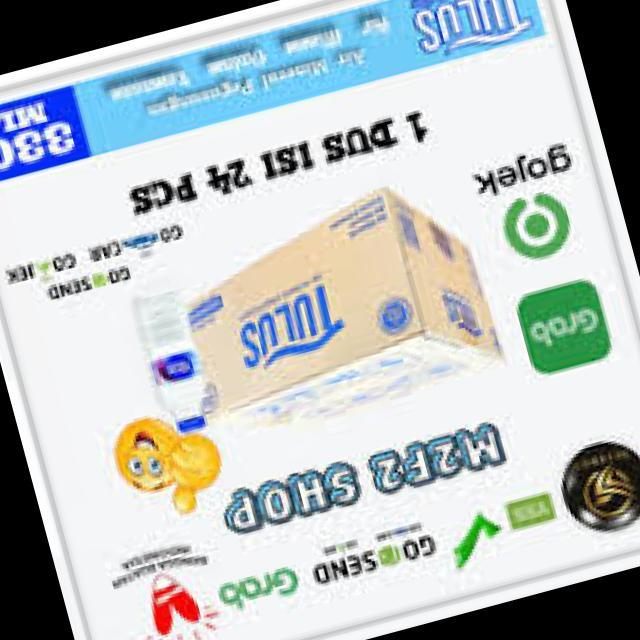good: (113, 271, 222, 452)
